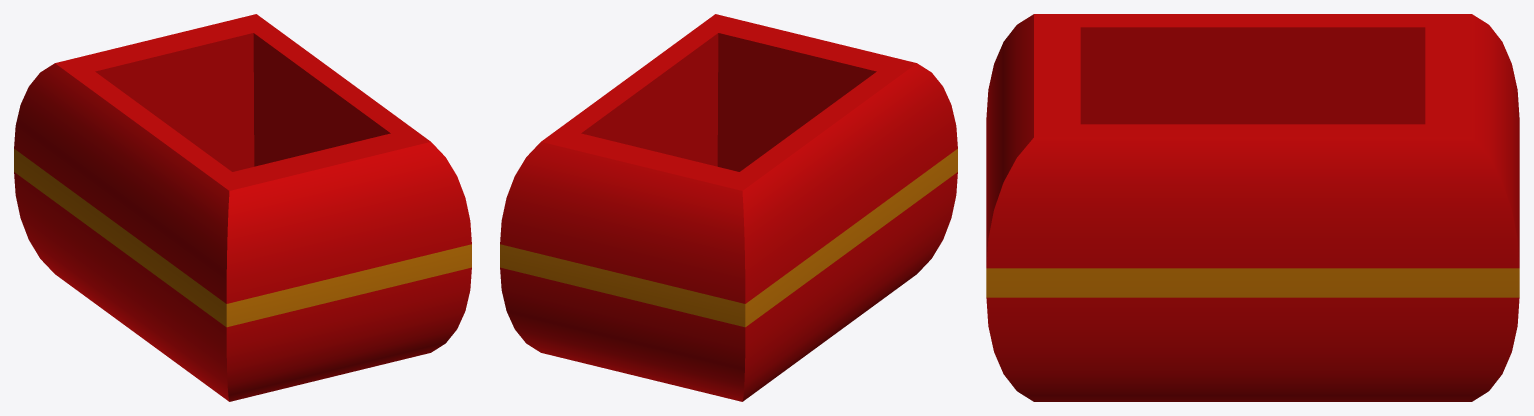
The model's file is cart.obj.
3 renders of one model, left to right at view 1: azimuth 30°, elevation 25°; view 2: azimuth 150°, elevation 25°; view 3: azimuth 270°, elevation 25°, orthographic. The views are drawn at different scales.
Parts seen in each view (by area): view 1: Cube.001; view 2: Cube.001; view 3: Cube.001.
Part boxes in pixels (x1,y1,x2,y2): Cube.001: (14,14,471,401); Cube.001: (500,14,957,401); Cube.001: (986,14,1519,401).
Bounding box in the file's own units: 2.43 × 2 × 3.65.
